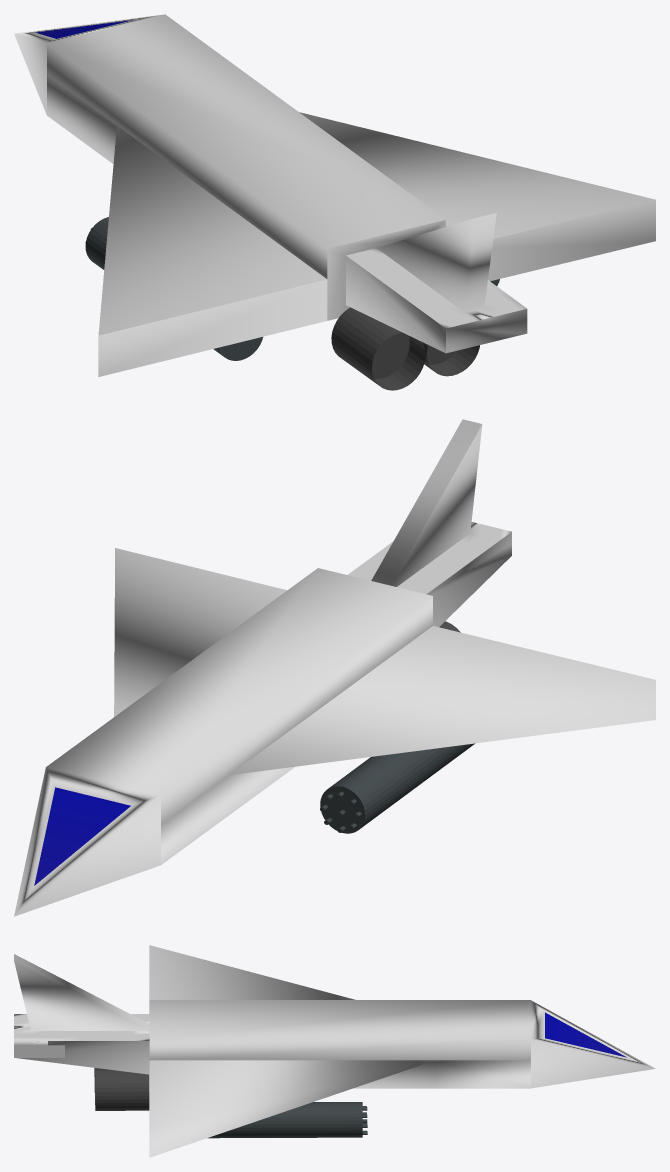
Rendered from nave-turbina.fbx.
3 views of the same model, one above another, from view 1: azimuth 30°, elevation 25°; view 2: azimuth 150°, elevation 25°; view 3: azimuth 270°, elevation 25° (orthographic). The views are drawn at different scales.
Parts seen in each view (by area): view 1: Nave, Turbina direita, Metralhadra esquerda; view 2: Nave, Metralhadra esquerda; view 3: Nave, Metralhadora direita, Turbina direita.
Boxes of the visible parts, bbox=[...] form: Nave: bbox=[14, 14, 655, 376]; Turbina direita: bbox=[331, 307, 479, 390]; Metralhadra esquerda: bbox=[85, 217, 262, 360]; Nave: bbox=[14, 419, 655, 916]; Metralhadra esquerda: bbox=[320, 743, 475, 833]; Nave: bbox=[14, 945, 655, 1157]; Metralhadora direita: bbox=[207, 1102, 367, 1138]; Turbina direita: bbox=[94, 1068, 149, 1110].
Size of what is drawn, in the model's own units: 564 by 204 by 829.
